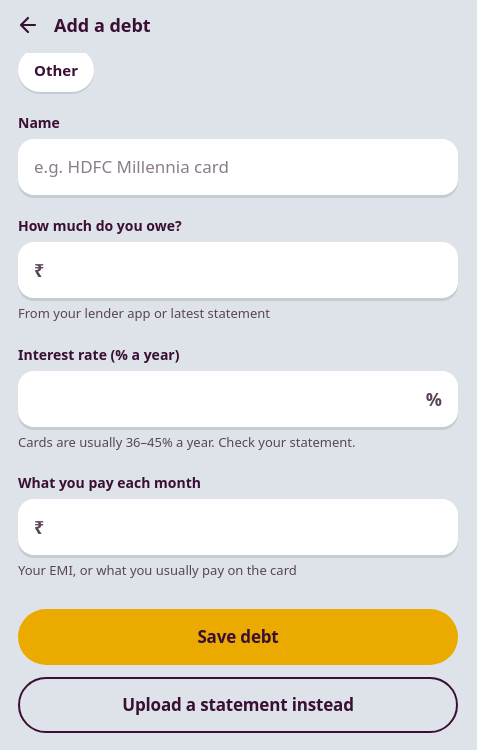
Scenario: add a debt › shows the errors from the data model and does not save
(page scrolled)
Click the button "Save debt".
click(238, 636)  # box [18,608,458,664]
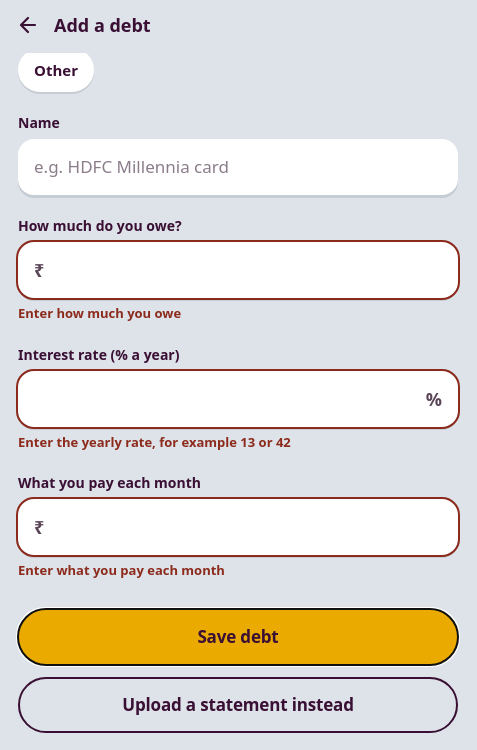
Result: the text "Enter how much you owe" is shown at [18,304,181,322]
Result: the text "Enter the yearly rate, for example 13 or 42" is shown at [18,432,291,450]
Result: the text "Enter what you pay each month" is shown at [18,561,225,579]
